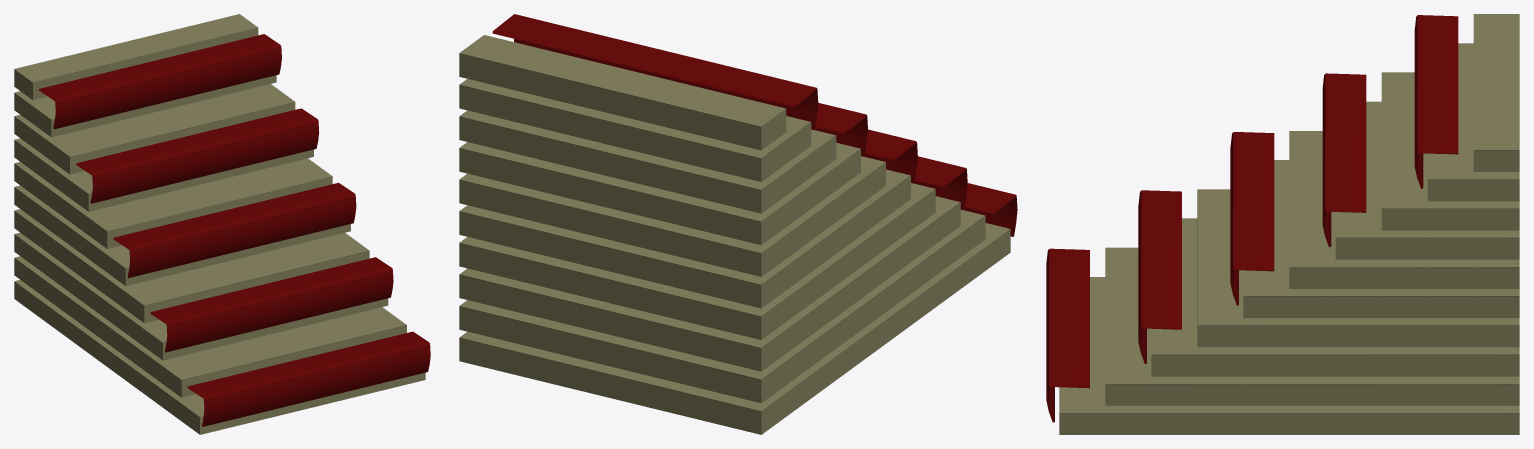
The model's file is stadBleachers.fbx.
3 views of the same model, side by side, from view 1: azimuth 30°, elevation 25°; view 2: azimuth 150°, elevation 25°; view 3: azimuth 270°, elevation 25° (orthographic). The views are drawn at different scales.
Visible parts, largest first — view 1: stadBleach; view 2: stadBleach; view 3: stadBleach.
Boxes of the visible parts, x1,y1,x2,y2 form: stadBleach: (14,14,430,434); stadBleach: (459,14,1017,434); stadBleach: (1046,14,1519,434).
Bounding box in the file's own units: 400 × 390 × 587.
Materials: 1 (1 with a texture image).
